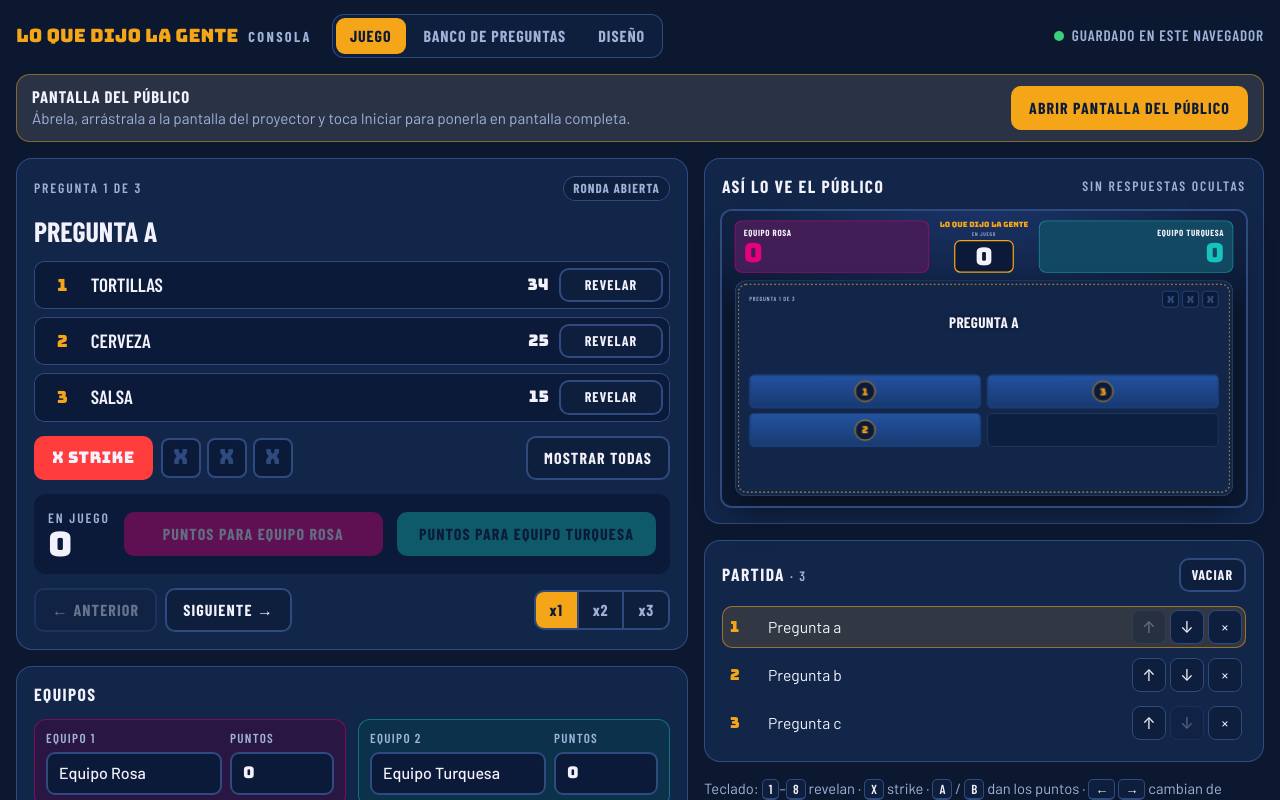
Test: Console · conducting a round › shows all answers with points and reveals them reversibly
Click the button with aria-label "Revelar respuesta 2".
click(611, 341)  # box [559, 324, 663, 358]
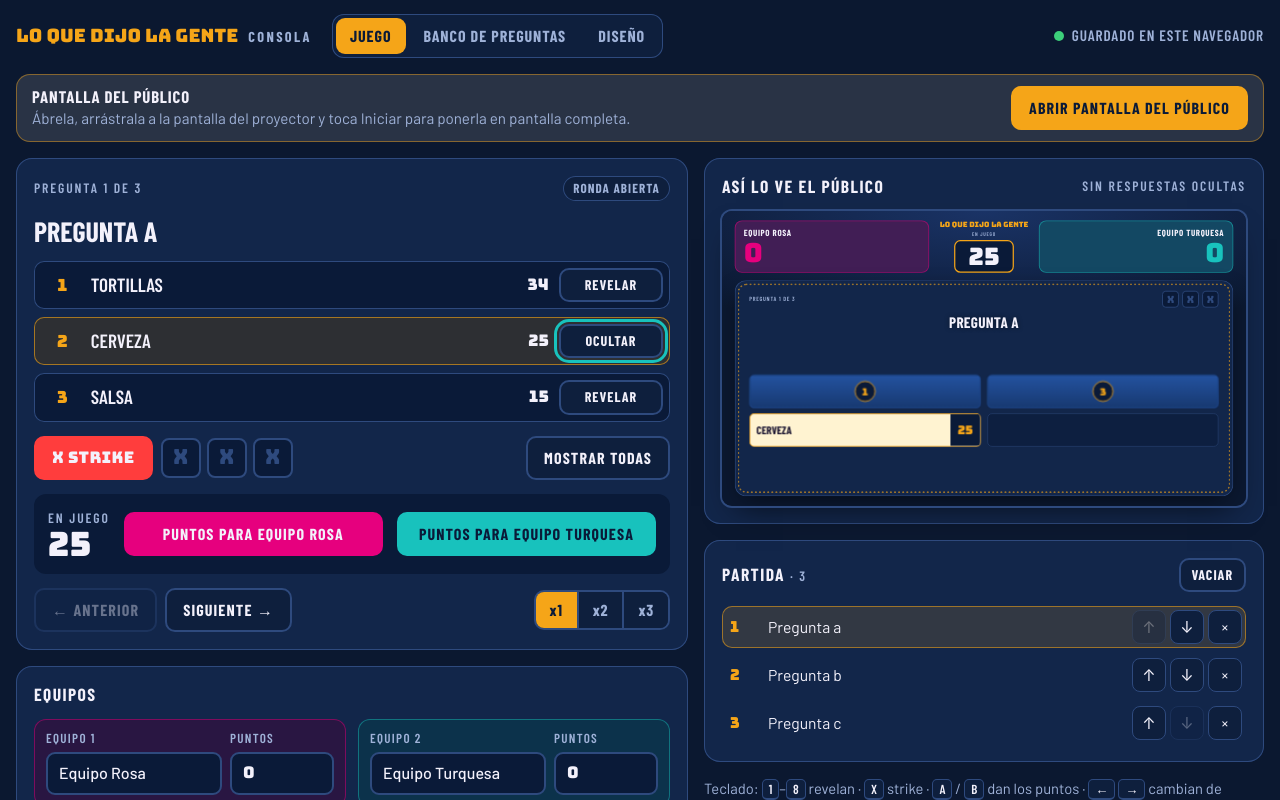
Expected: the text with id "hPot" reads "25", [48, 522, 91, 566]
Expected: the 2nd text "Cerveza" is shown, [756, 423, 791, 436]
Click the button with aria-label "Ocultar respuesta 2".
click(611, 341)  # box [559, 324, 663, 358]
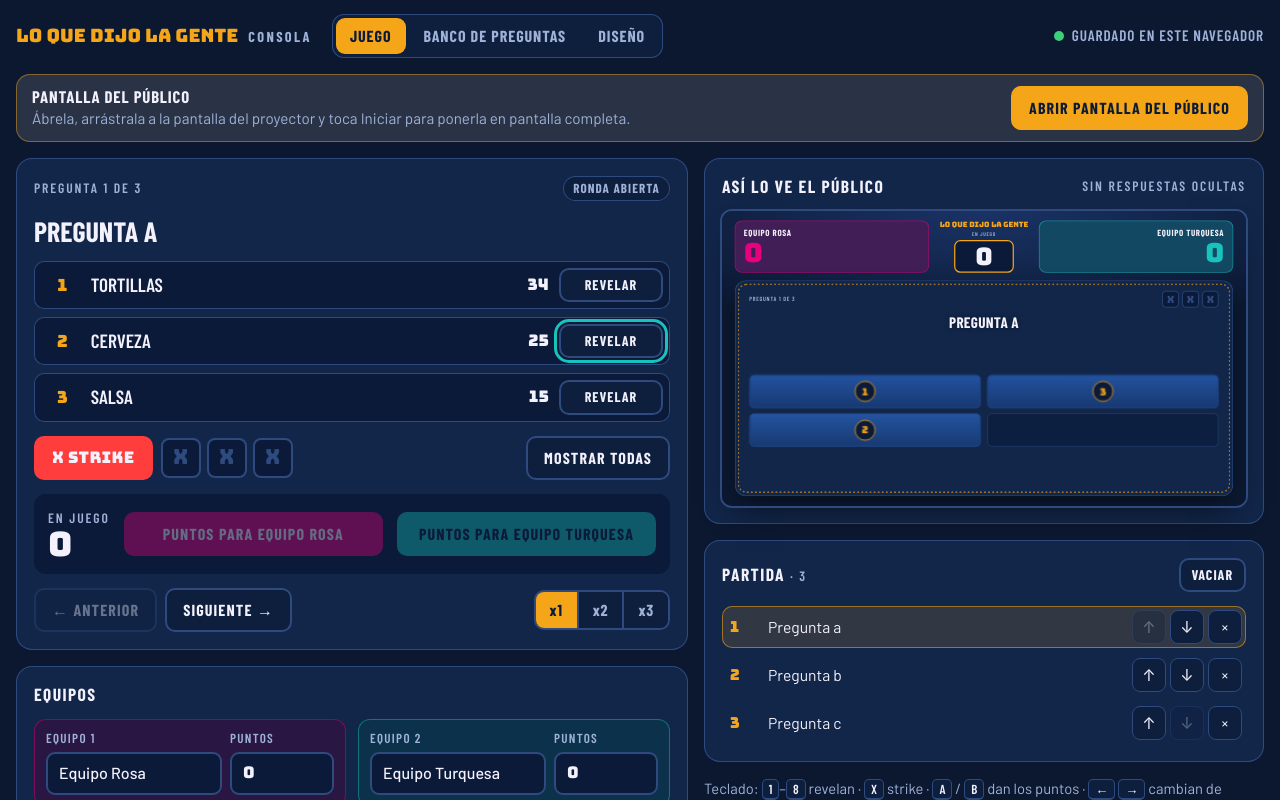
Expected: the text with id "hPot" reads "0", [48, 522, 72, 566]
